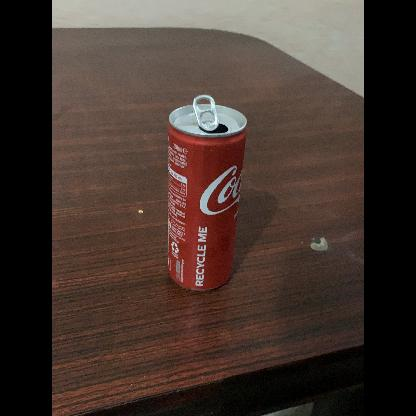Lid_Open: (186, 92, 233, 140)
Tin_Can: (157, 78, 249, 304)
